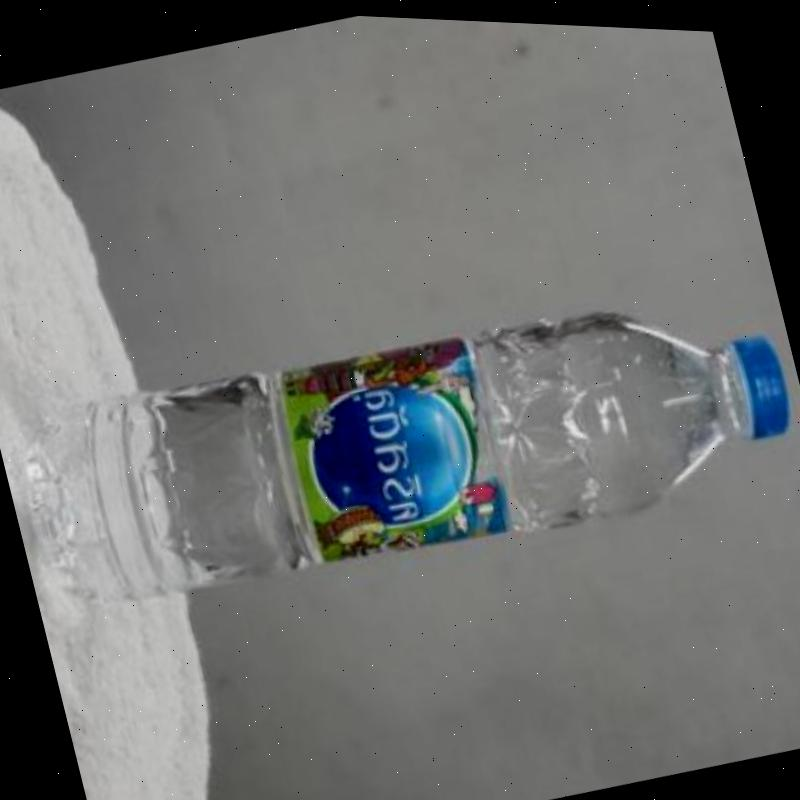botella: (7, 228, 800, 661)
